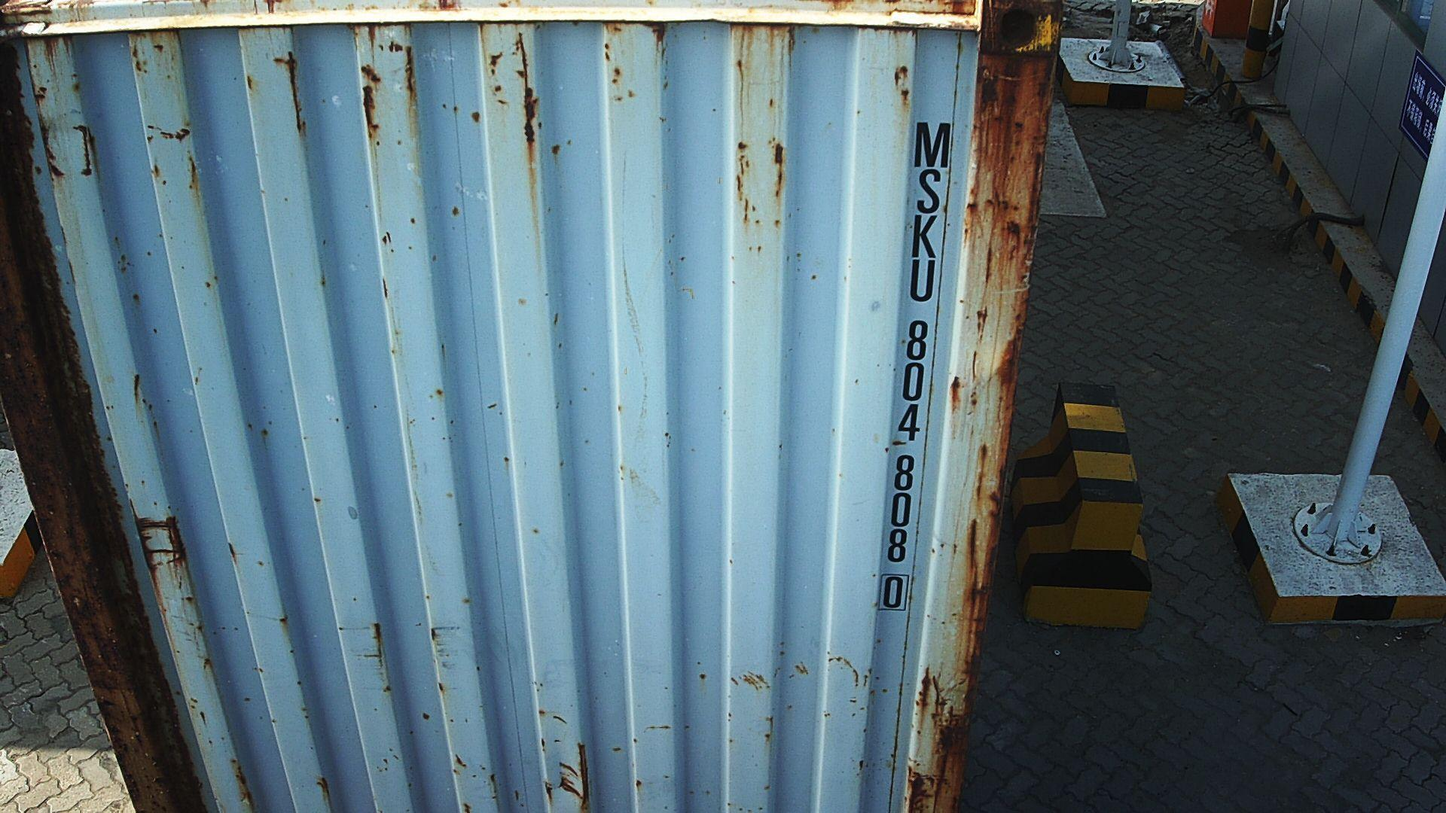container-numbers: (873, 112, 956, 615)
